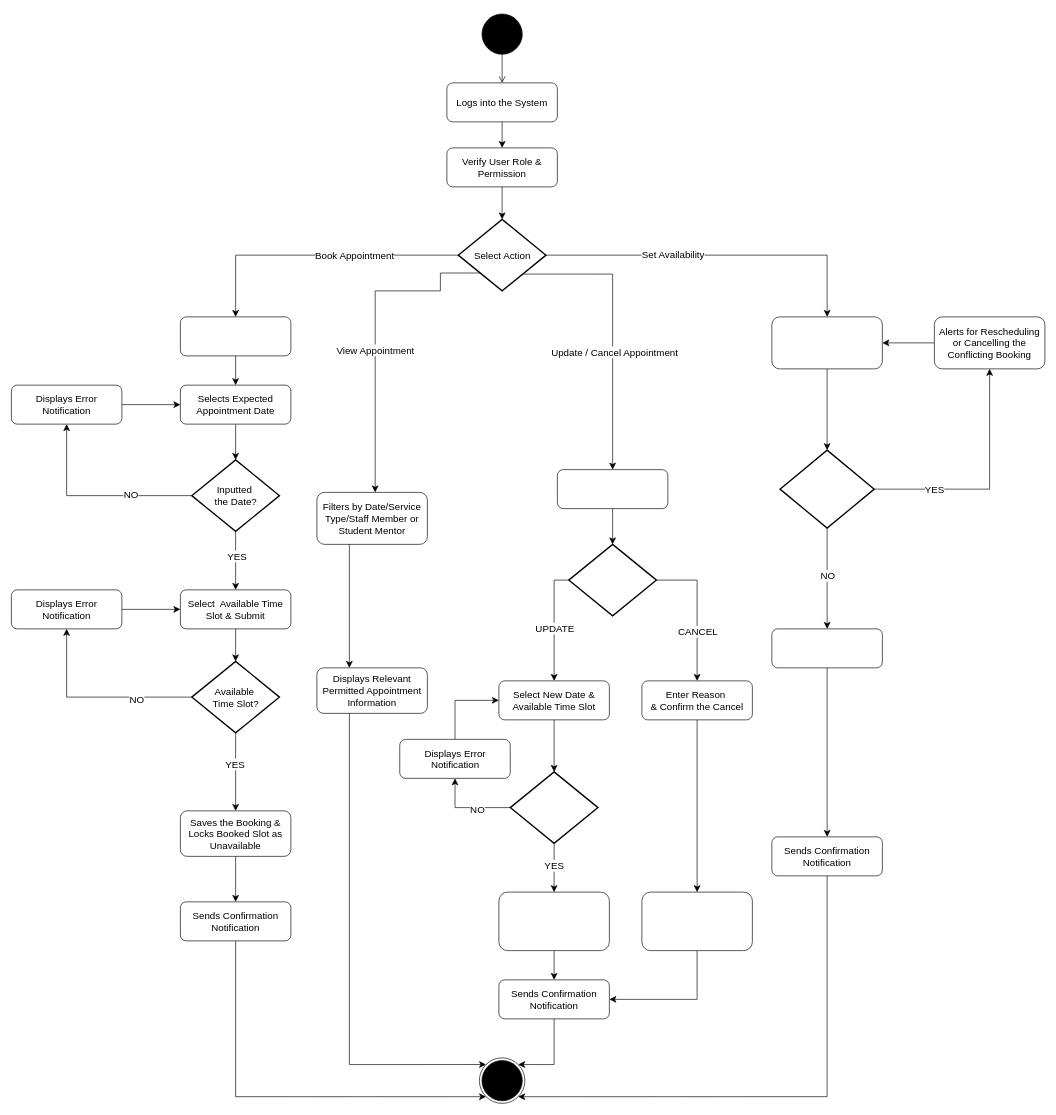
The diagram is 1056 pixels wide and 1115 high, and some of its shapes have lost their labels. The shapes that lost their labels are listed below. From the top down, each one's centre as x and y in pixels, then its label:
the point at 235,336: Filter Support Services for Browsing
the point at 826,342: Select Available/Unavailable Hours
the point at 612,489: Select Existing Booking
the point at 827,488: Conflicts with Existing Booking?
the point at 612,579: Update or Cancel?
the point at 826,648: Saves & Updates Available Slots
the point at 553,807: Is it Available?
the point at 553,921: Updates Booking & Frees the Old Slot & Locks New Booked Slot as Unavailable
the point at 696,921: Cancels Booking & Frees the Cancelled Slot as Available again
